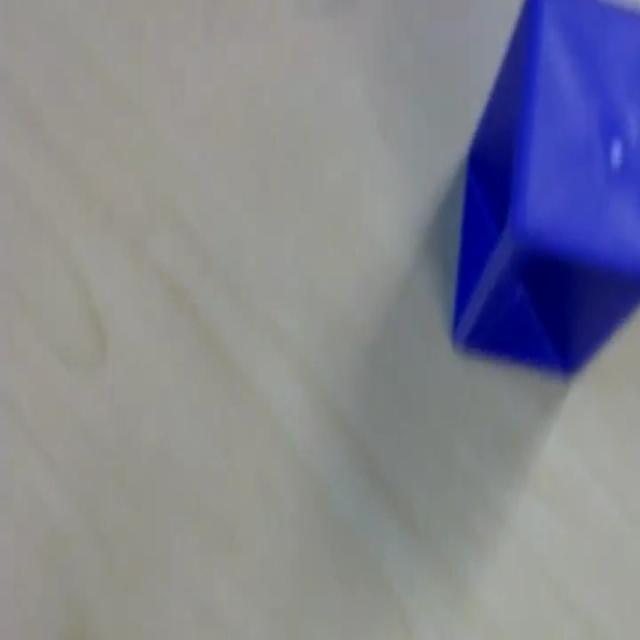blue_block: (449, 0, 638, 377)
